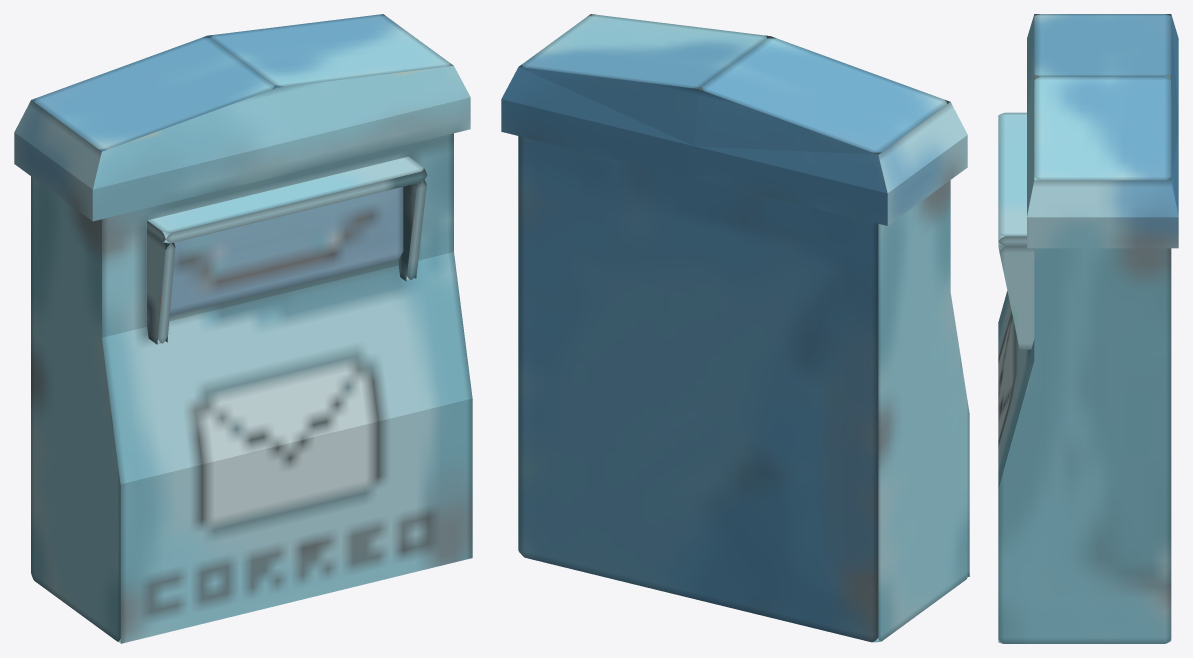
File: Buzon.fbx
The picture shows the model from 3 angles, left to right: view 1: azimuth 30°, elevation 25°; view 2: azimuth 150°, elevation 25°; view 3: azimuth 270°, elevation 25°; orthographic projection. The views are drawn at different scales.
Visible parts, largest first — view 1: correo; view 2: correo; view 3: correo.
Part boxes in pixels (x1=…): correo: x1=14, y1=14, x2=472, y2=643; correo: x1=501, y1=14, x2=969, y2=642; correo: x1=998, y1=14, x2=1178, y2=643.
Bounding box in the file's own units: 25.71 × 32.5 × 10.98.
1 material, 1 textured.
